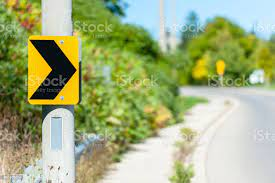right turn: (27, 36, 80, 104)
